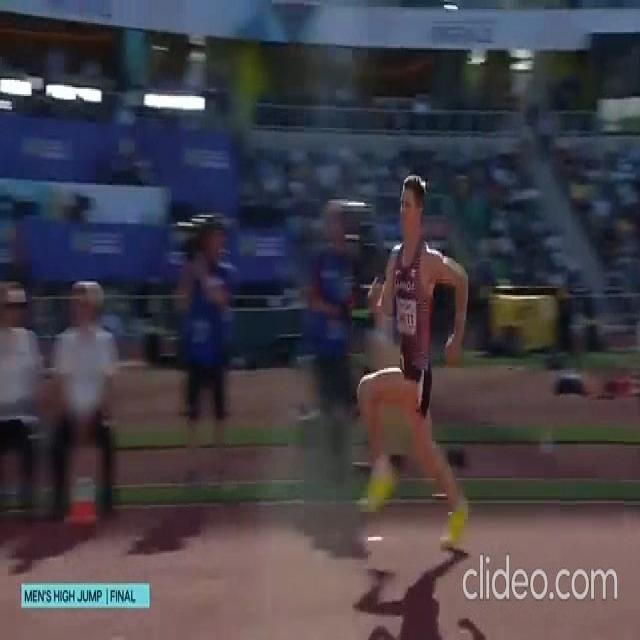run: (353, 169, 467, 549)
